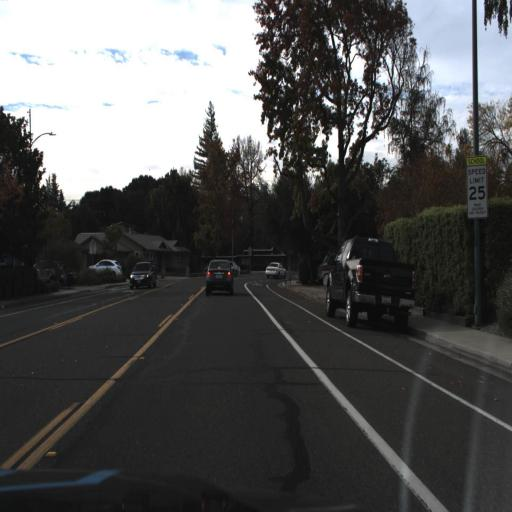car: (326, 236, 414, 330), (204, 258, 234, 297), (130, 258, 156, 288), (94, 261, 122, 277), (266, 260, 285, 280)
